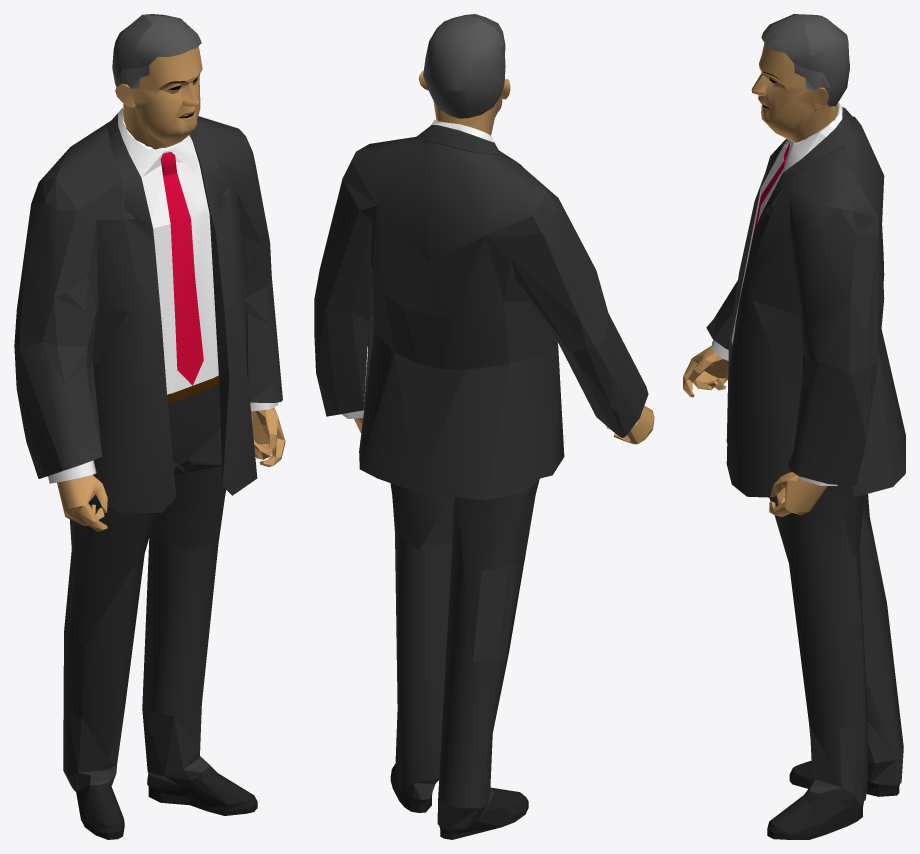
3 renders of one model, left to right at view 1: azimuth 30°, elevation 25°; view 2: azimuth 150°, elevation 25°; view 3: azimuth 270°, elevation 25°, orthographic. The views are drawn at different scales.
Parts seen in each view (by area): view 1: Mesh96; view 2: Mesh96; view 3: Mesh96.
Boxes of the visible parts, box(x1,y1,x2,y2) form: Mesh96: box(14, 14, 285, 839); Mesh96: box(314, 14, 654, 839); Mesh96: box(683, 14, 905, 839).
Size of the model in its own units: 27.77 by 77.61 by 19.89.
